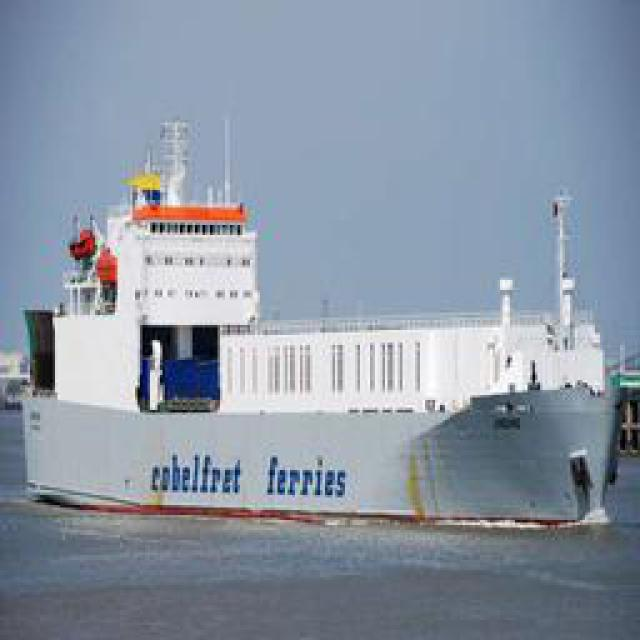Ship: (21, 103, 627, 543)
